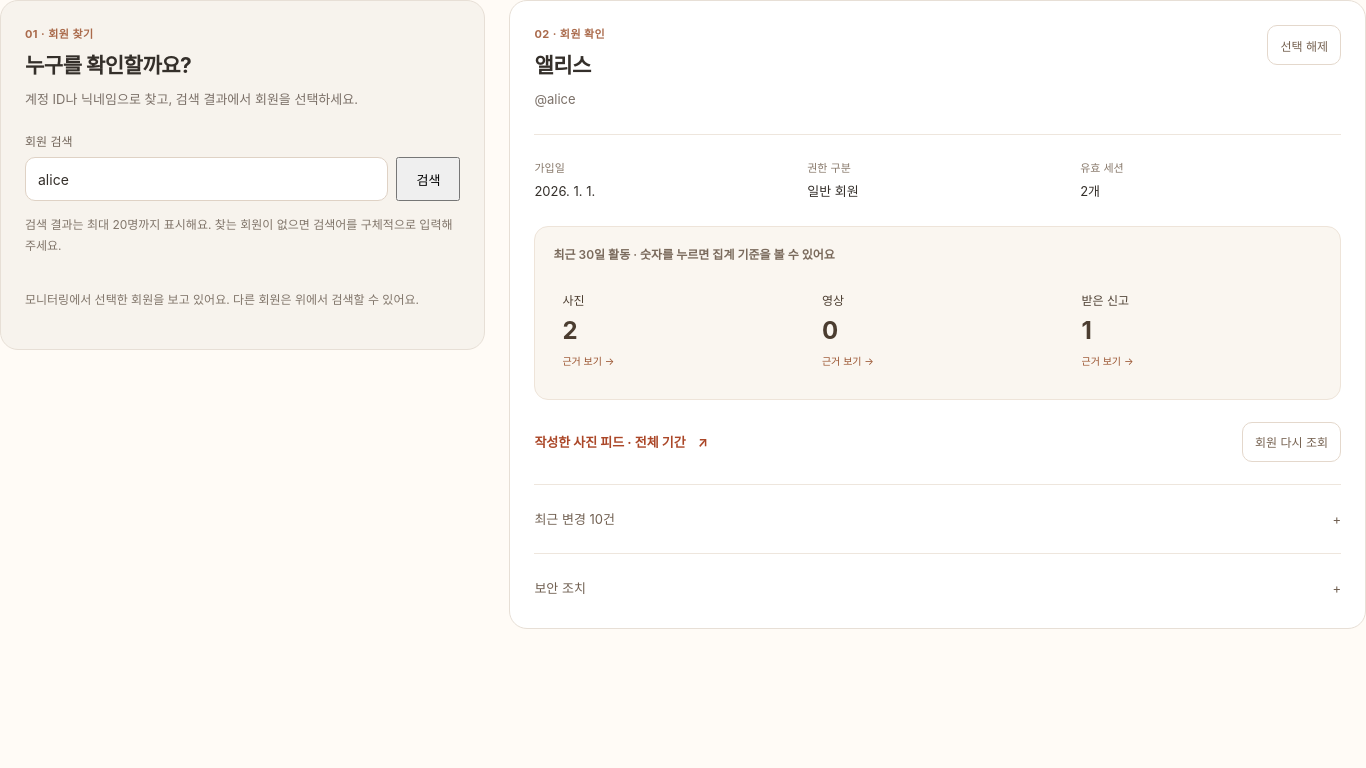
Test case: a conflict is shown without claiming successful logout
Click the heading "보안 조치 +".
click(560, 588)  # box x1=534 y1=580 x2=1341 y2=596
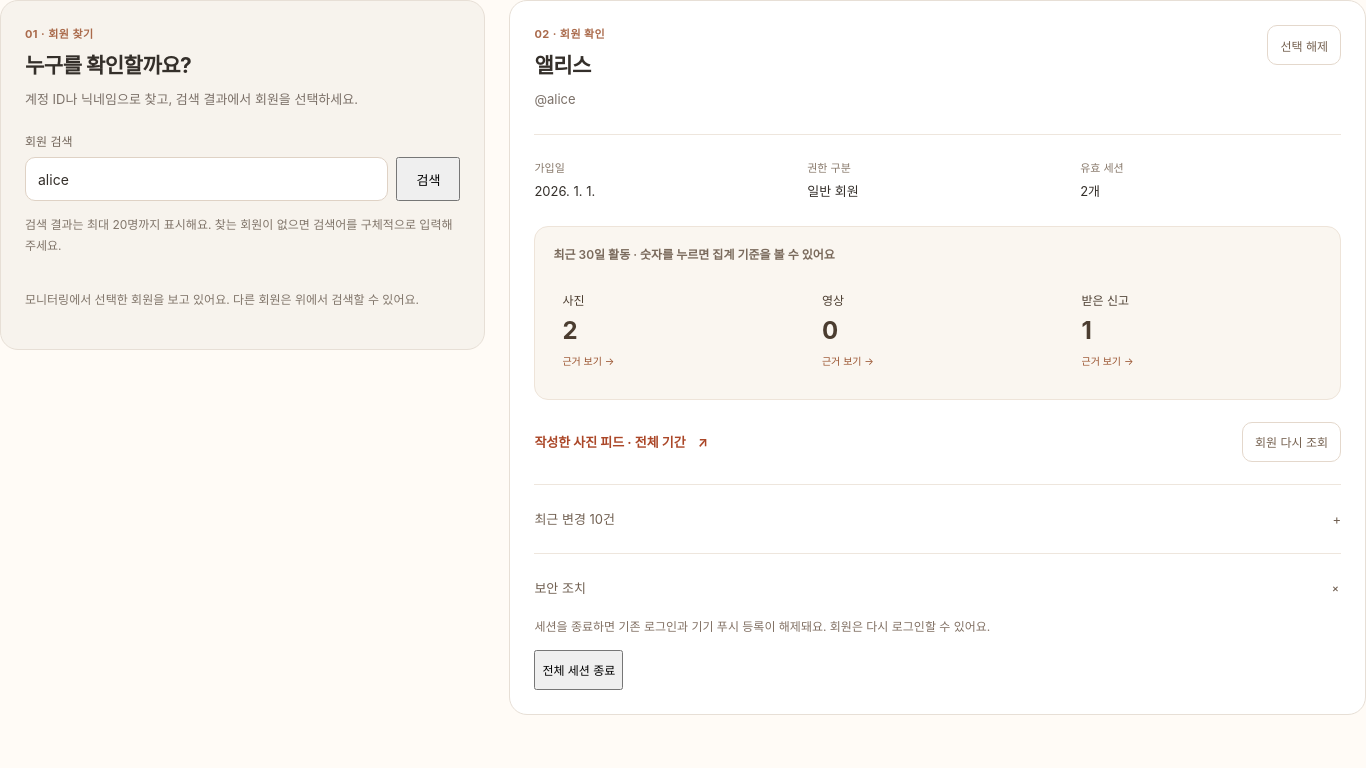
Click the button "전체 세션 종료".
click(579, 670)  # box x1=534 y1=650 x2=623 y2=690
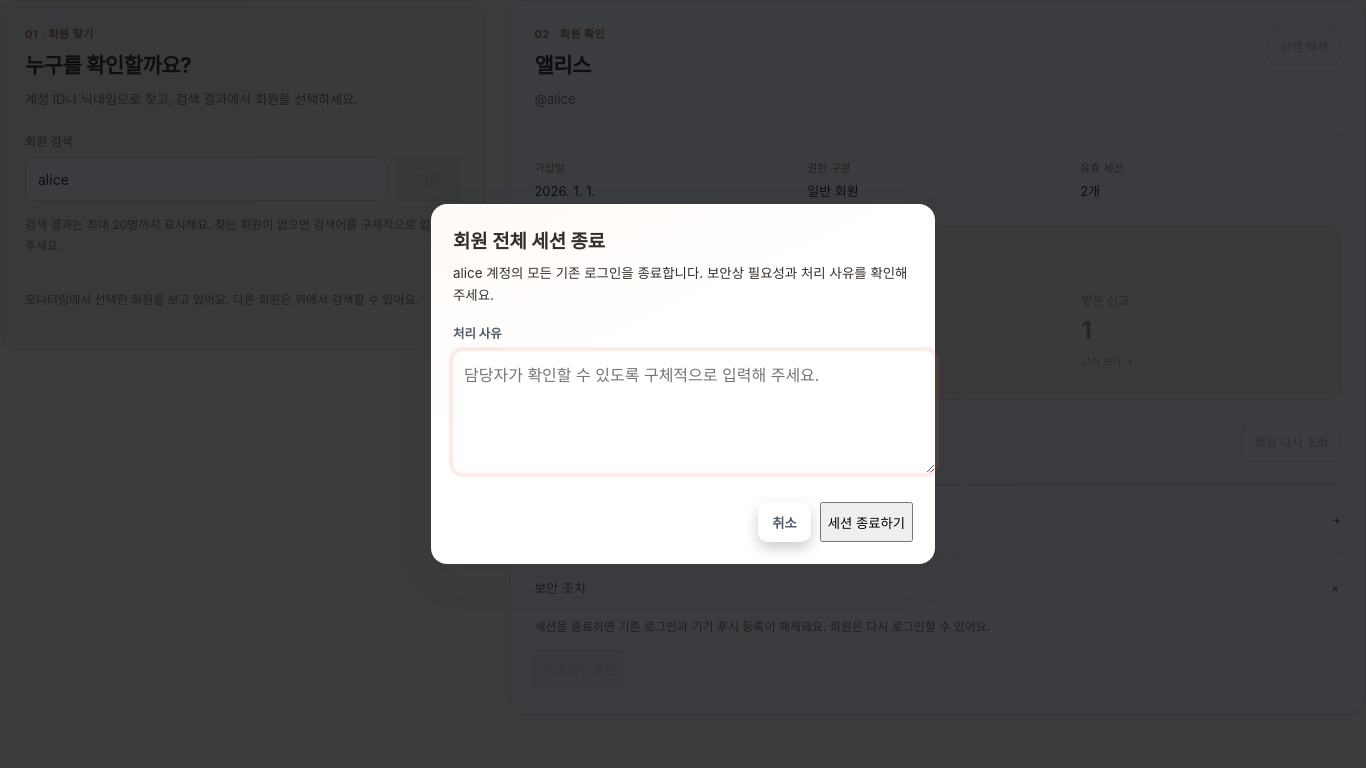
Type "계정 보안 검토에 따른 세션 종료입니다." into the text box labelled "처리 사유".
click(694, 412); type("계정 보안 검토에 따른 세션 종료입니다.")  # box x1=453 y1=351 x2=935 y2=473
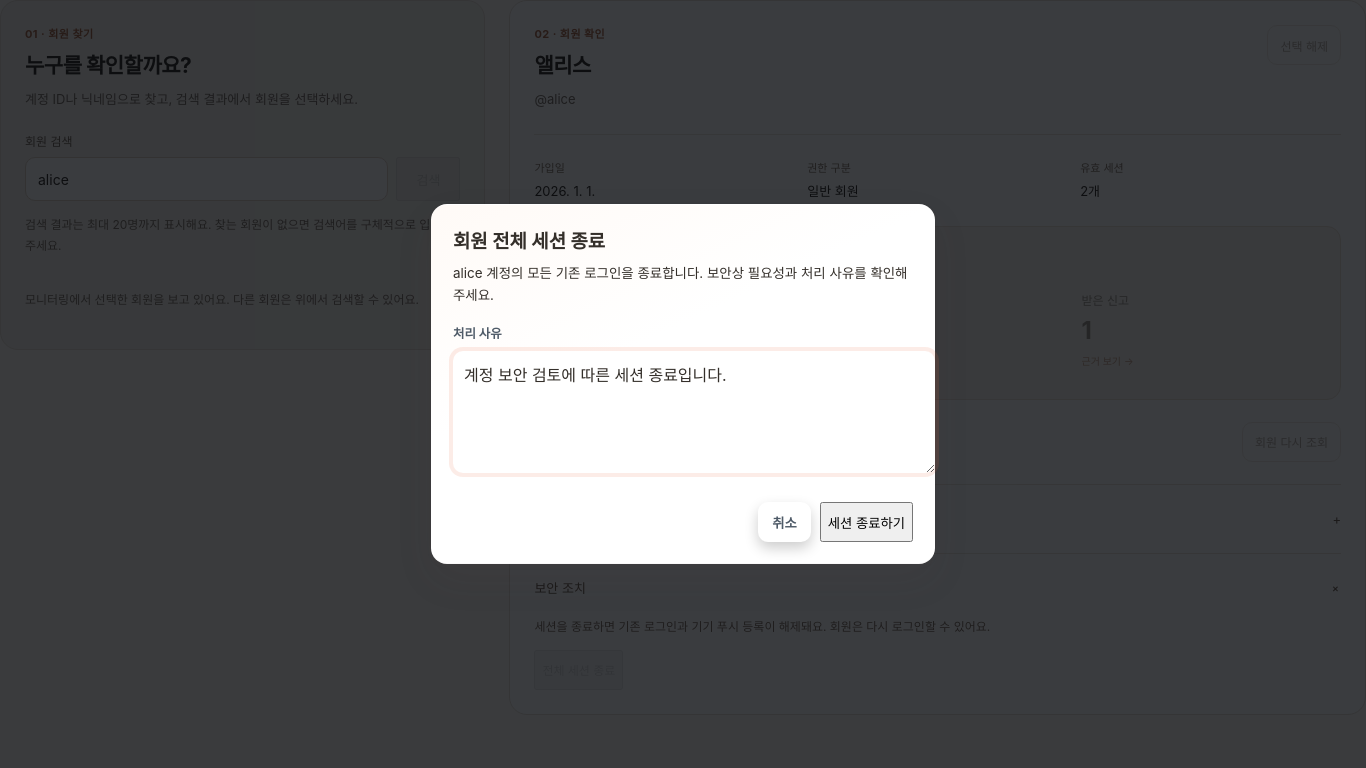
Click the button "세션 종료하기".
click(866, 522)  # box x1=820 y1=502 x2=913 y2=542
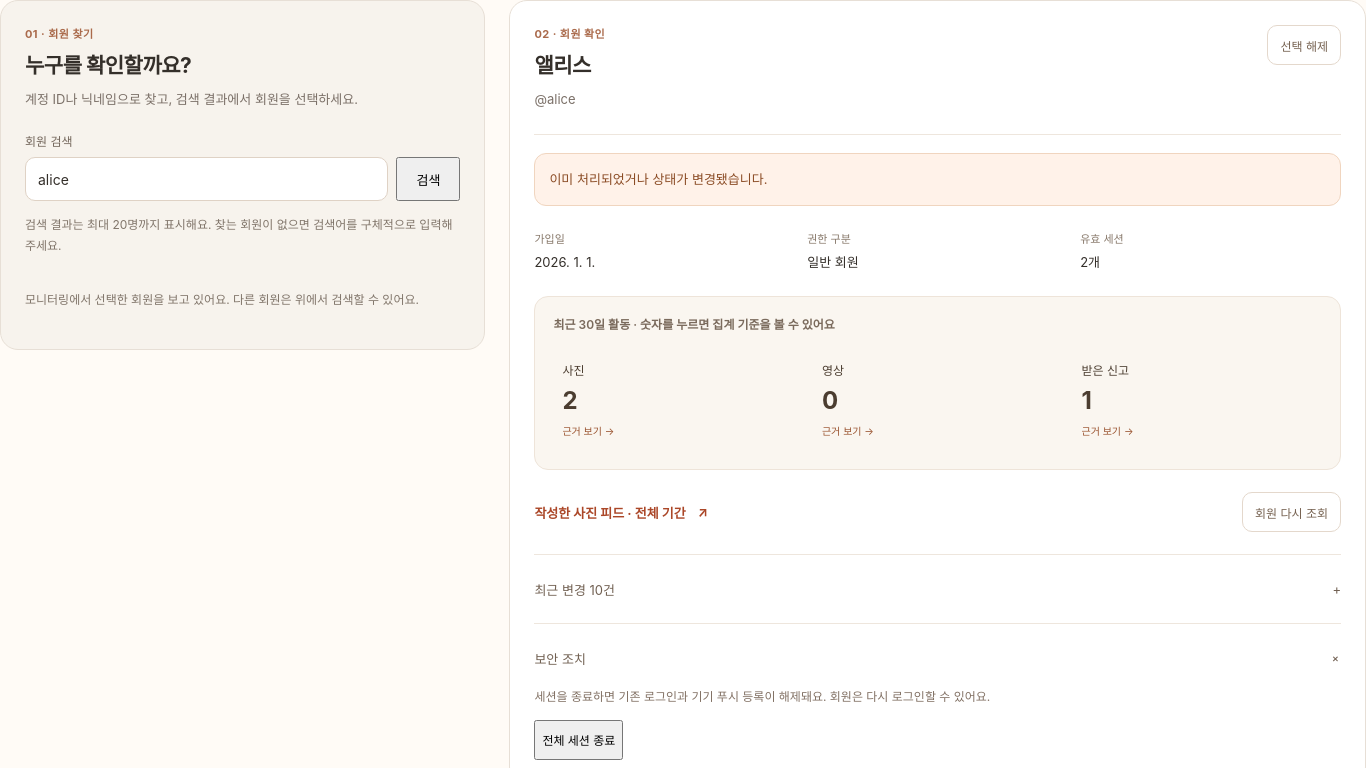
Expected: the message "이미 처리되었거나 상태가 변경됐습니다." is shown, x1=534 y1=154 x2=1341 y2=206
